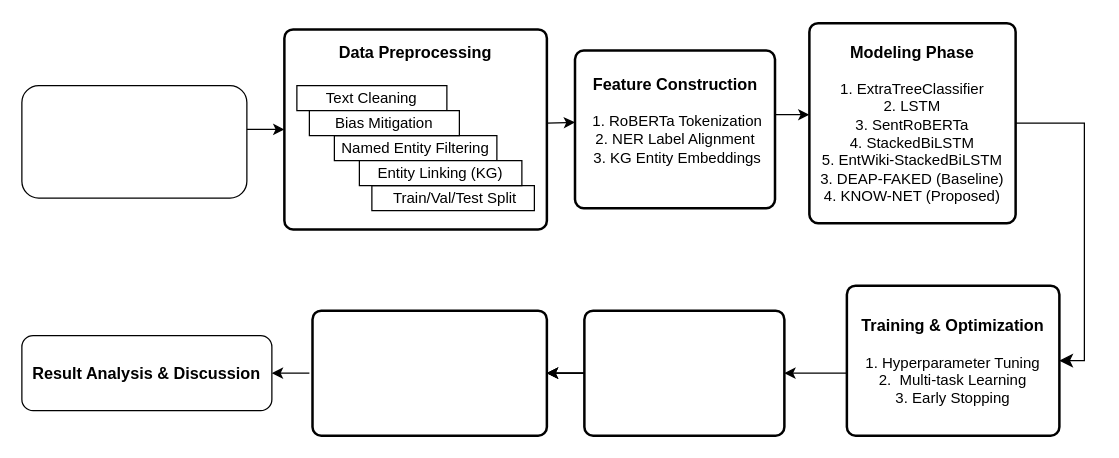
This 1119x458 diagram has some shape labels left out. Each missing label, with the centre of its shape:
"Data Sources 1. Kaggle Fake News Dataset 2. External KG: DBpedia" goes at point (134, 141).
"Evaluation 1. Accuracy / F1 / AUC 2. Confusion Matrix" goes at point (683, 372).
"Statistical Validation 1. Paired Significance Test 2. KNOW-NET vs DEAP-FAKED" goes at point (429, 372).
